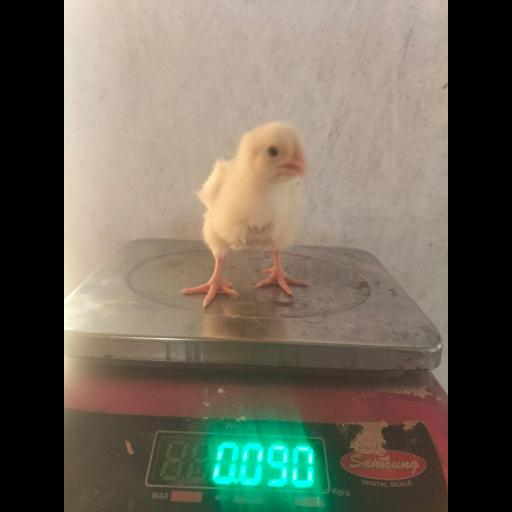chick: (181, 122, 308, 306)
